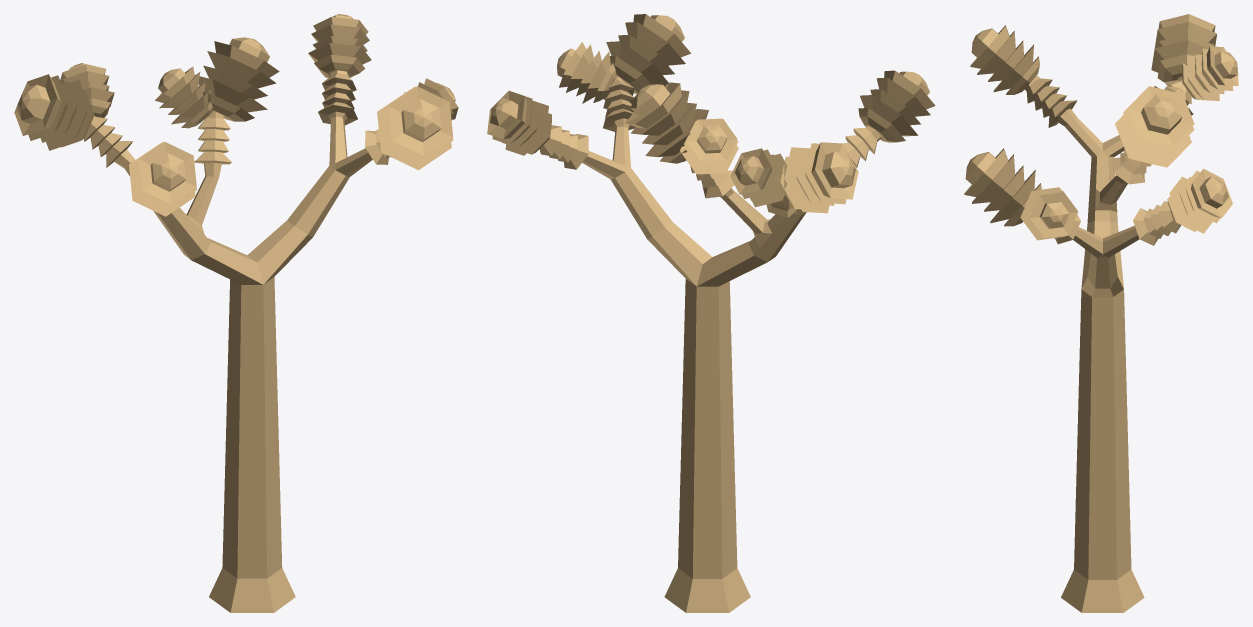
Rendered from Mega_Asset_s_Pack_Cylinder_011.FBX.
The picture shows the model from 3 angles, left to right: view 1: azimuth 30°, elevation 25°; view 2: azimuth 150°, elevation 25°; view 3: azimuth 270°, elevation 25°; orthographic projection. The views are drawn at different scales.
Visible parts, largest first — view 1: Mega_Asset_s_Pack_Cylinder_011; view 2: Mega_Asset_s_Pack_Cylinder_011; view 3: Mega_Asset_s_Pack_Cylinder_011.
Part boxes in pixels (x1=…): Mega_Asset_s_Pack_Cylinder_011: x1=14, y1=14, x2=458, y2=612; Mega_Asset_s_Pack_Cylinder_011: x1=487, y1=14, x2=935, y2=612; Mega_Asset_s_Pack_Cylinder_011: x1=964, y1=14, x2=1238, y2=612.
Size of what is drawn, in the model's own units: 337 by 229 by 473.
